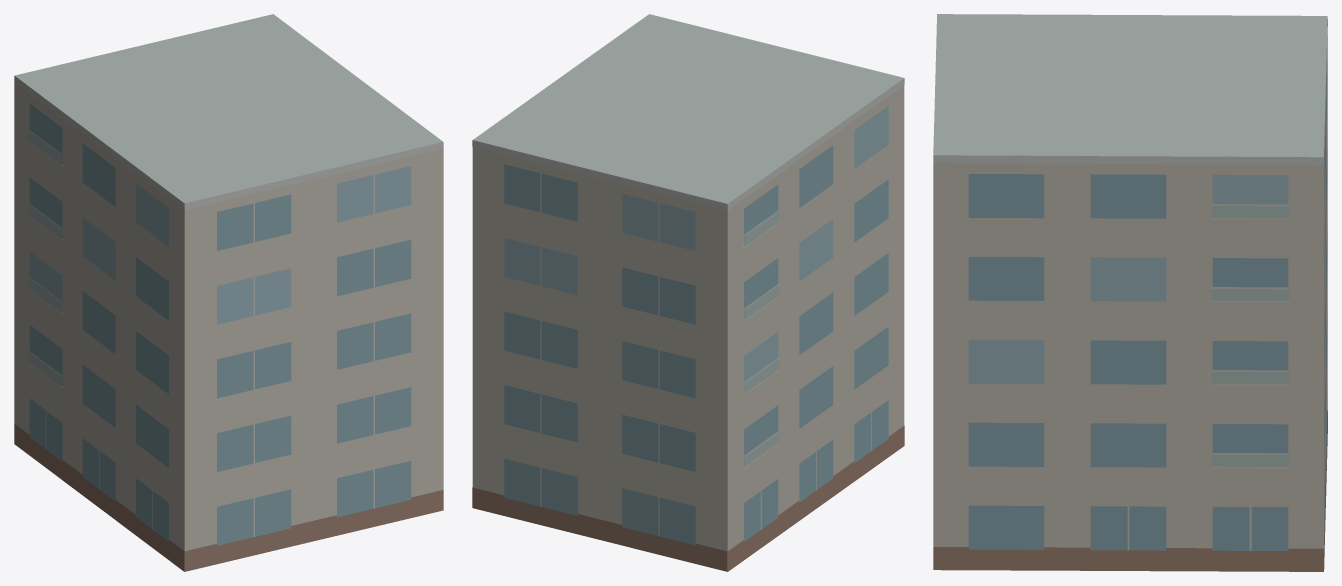
Rendered from survey-upis-32915884.glb.
The picture shows the model from 3 angles, left to right: view 1: azimuth 30°, elevation 25°; view 2: azimuth 150°, elevation 25°; view 3: azimuth 270°, elevation 25°; orthographic projection. The views are drawn at different scales.
Visible parts, largest first — view 1: survey-upis-32915884.tmp; view 2: survey-upis-32915884.tmp; view 3: survey-upis-32915884.tmp.
Boxes of the visible parts, <box> form: survey-upis-32915884.tmp: <box>14,14,443,571</box>; survey-upis-32915884.tmp: <box>472,14,904,571</box>; survey-upis-32915884.tmp: <box>933,14,1327,571</box>.
Bounding box in the file's own units: 9.73 × 13.1 × 11.3.
